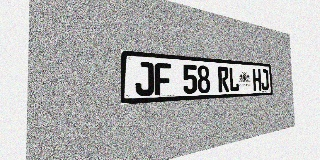5: (183, 64, 197, 94)
8: (197, 65, 210, 93)
F: (154, 62, 171, 95)
H: (253, 69, 261, 91)
J: (135, 61, 154, 96), (261, 69, 269, 91)
L: (229, 67, 239, 92)
R: (218, 66, 229, 92)
